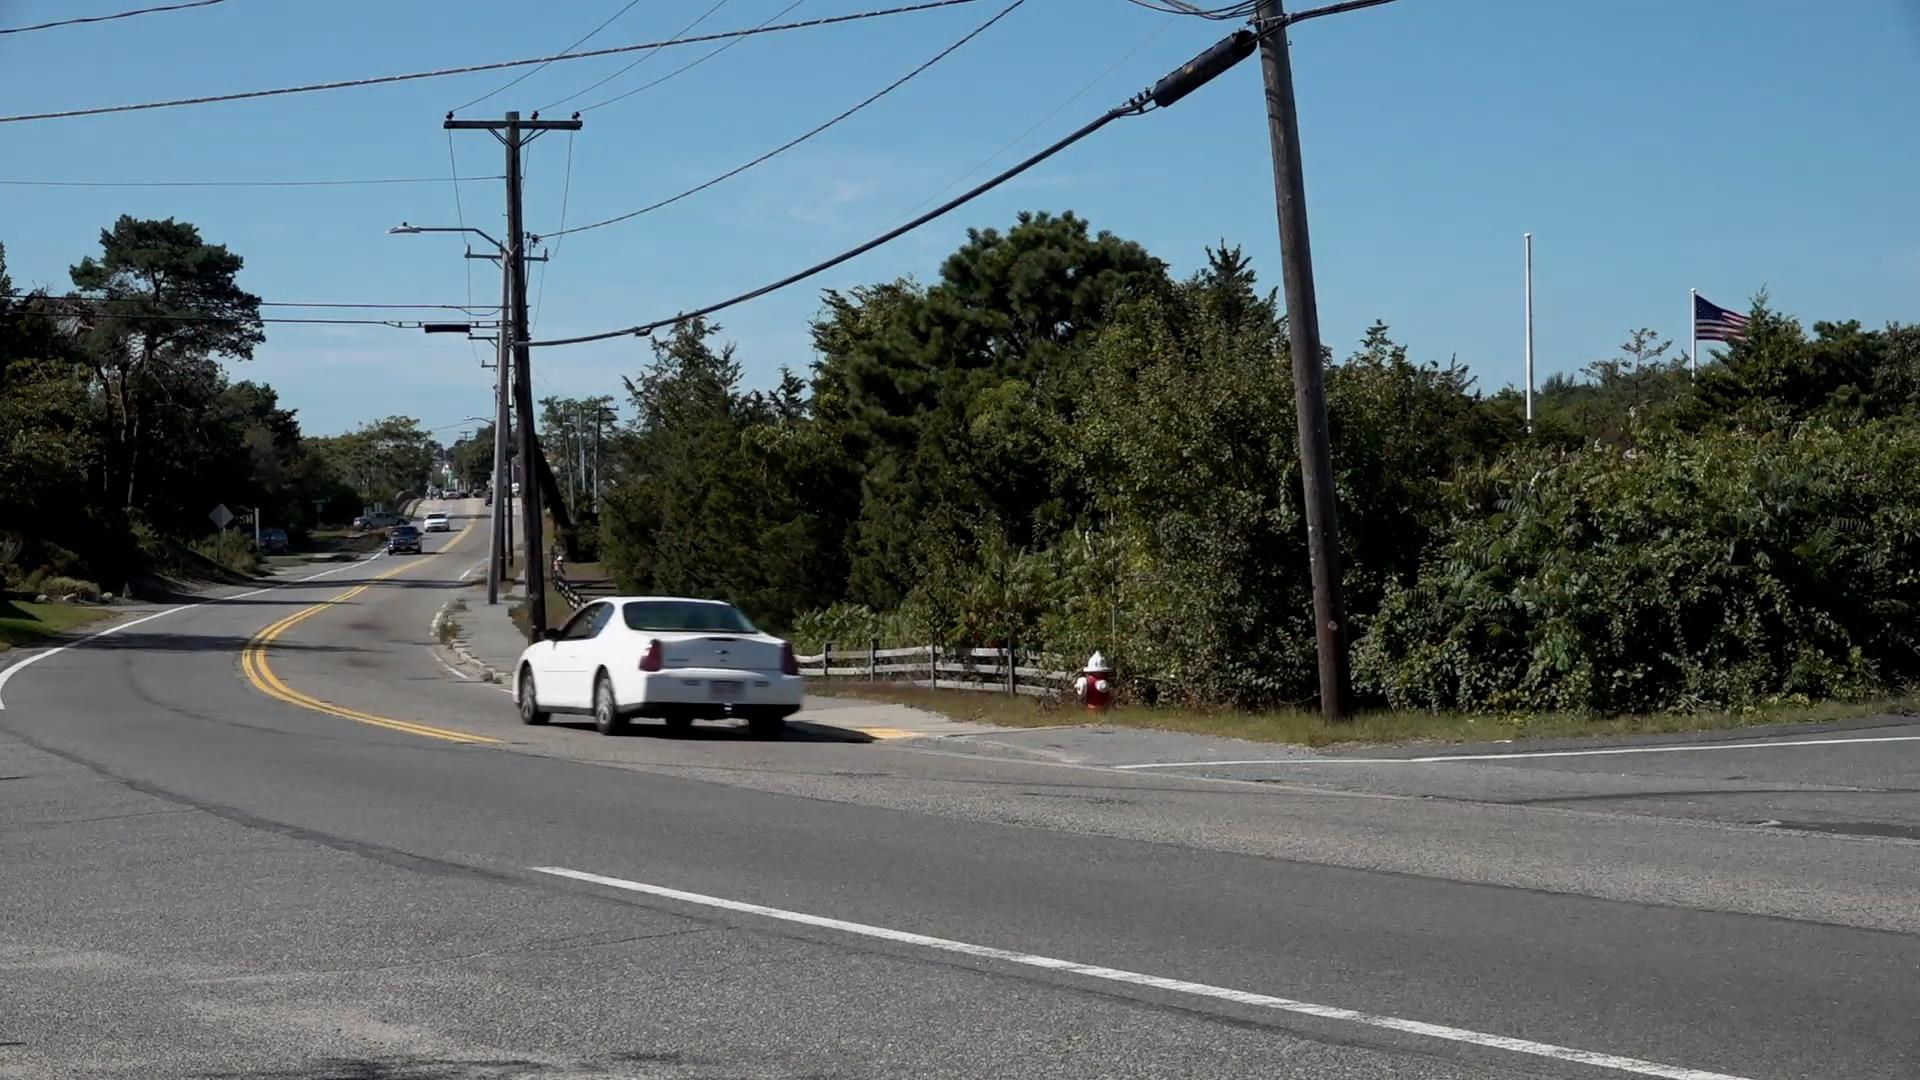sedans: (517, 591, 800, 734)
